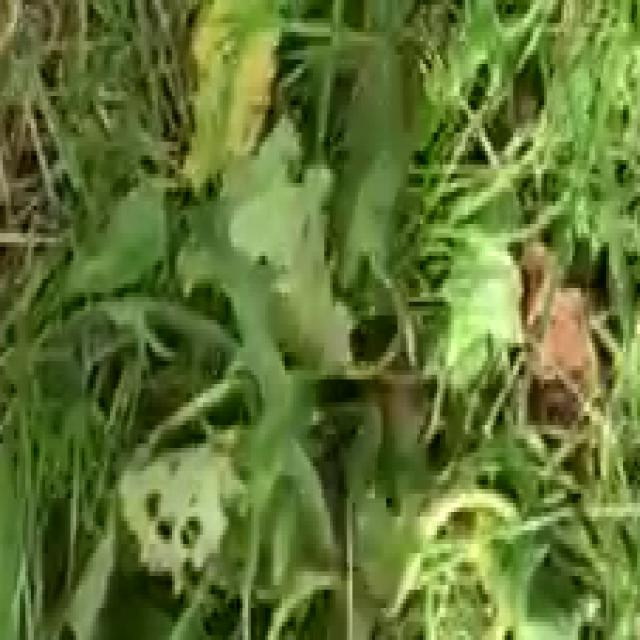organic waste: (48, 0, 598, 576)
